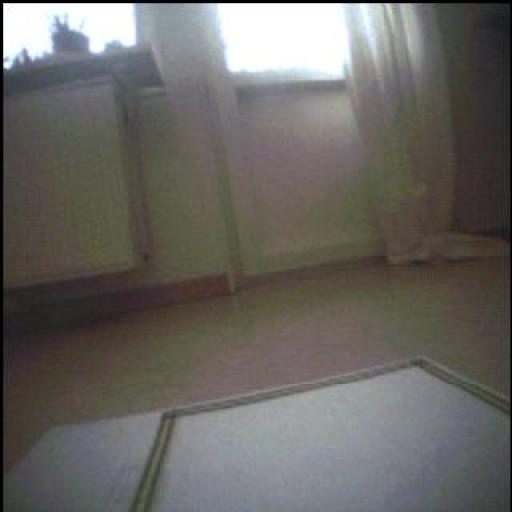Pad: (144, 355, 507, 512)
